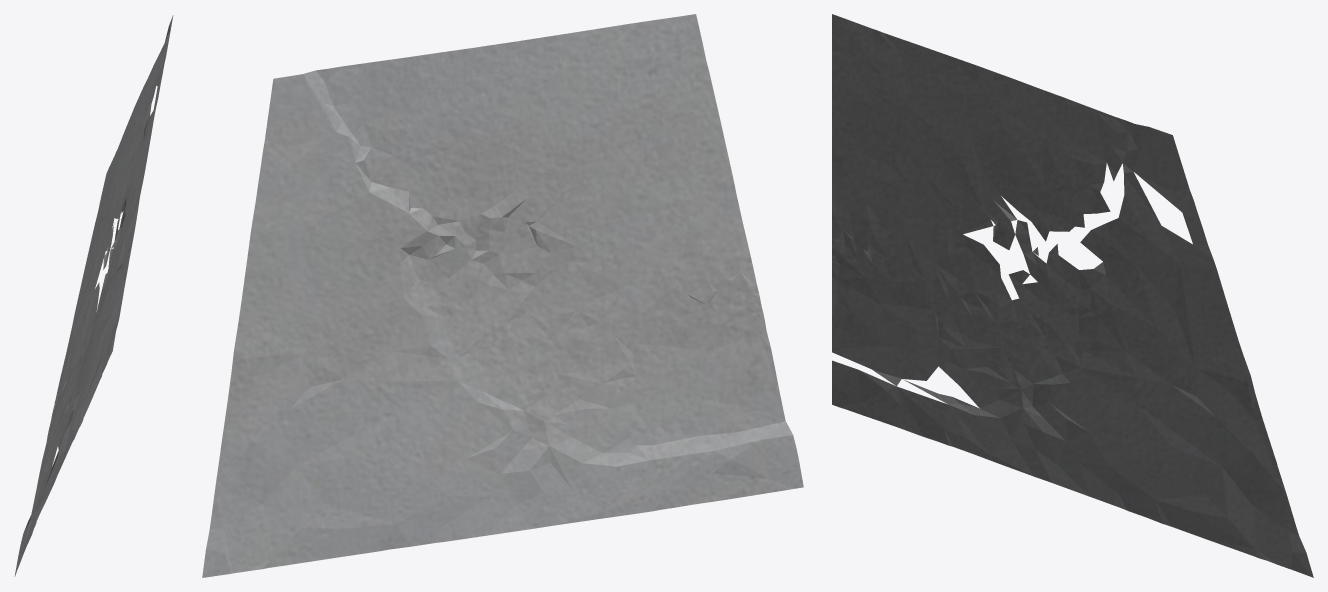
3 renders of one model, left to right at view 1: azimuth 30°, elevation 25°; view 2: azimuth 150°, elevation 25°; view 3: azimuth 270°, elevation 25°, orthographic. The views are drawn at different scales.
Size of the model in its own units: 0.7025 by 0.8374 by 0.8257.
Materials: 3 (3 with a texture image).
